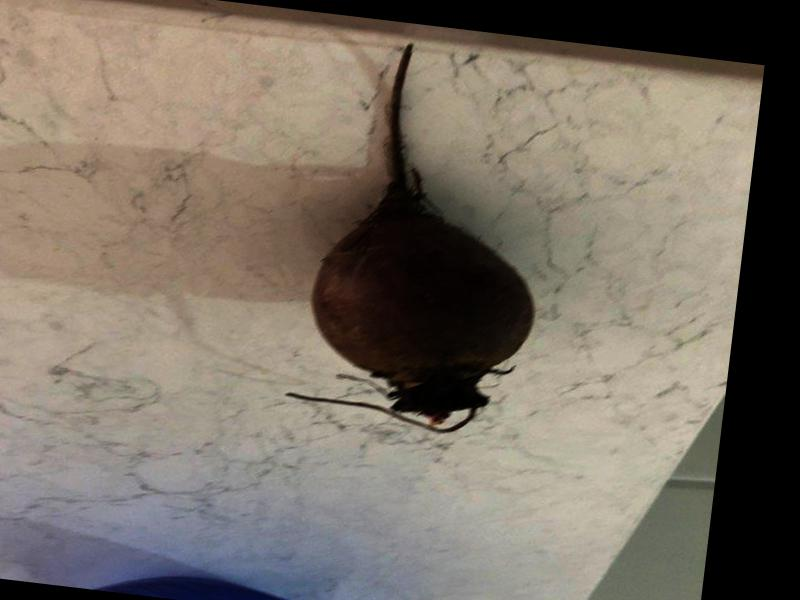Beet: (281, 34, 561, 443)
